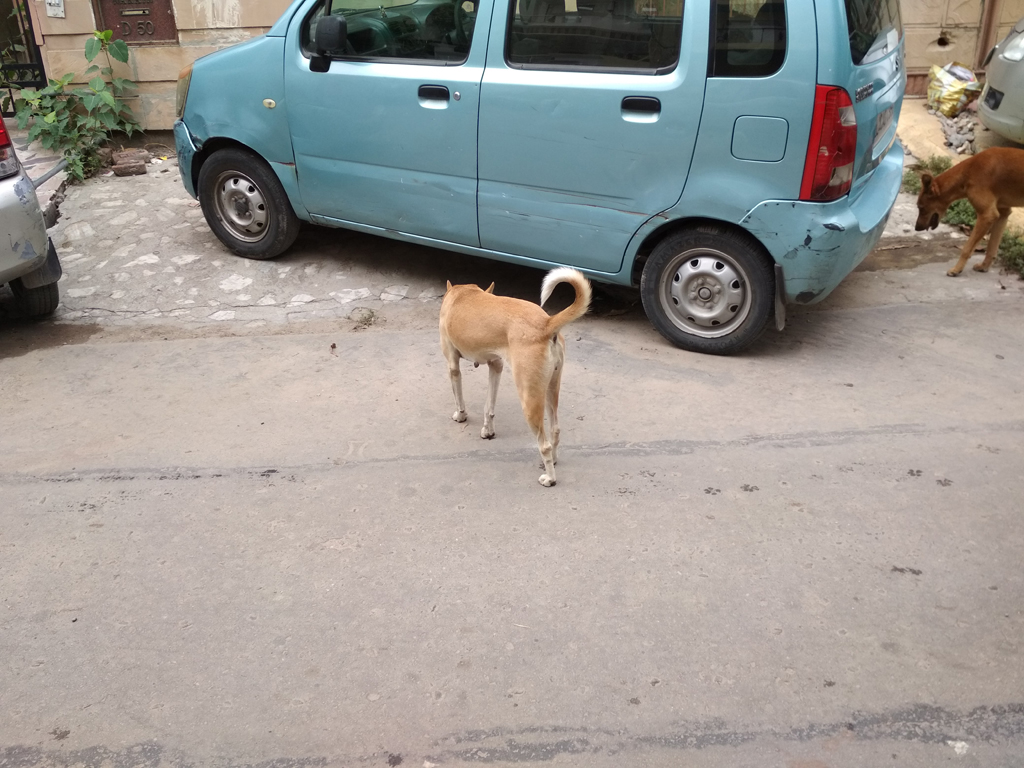dog: (438, 267, 591, 488), (914, 147, 1024, 277)
